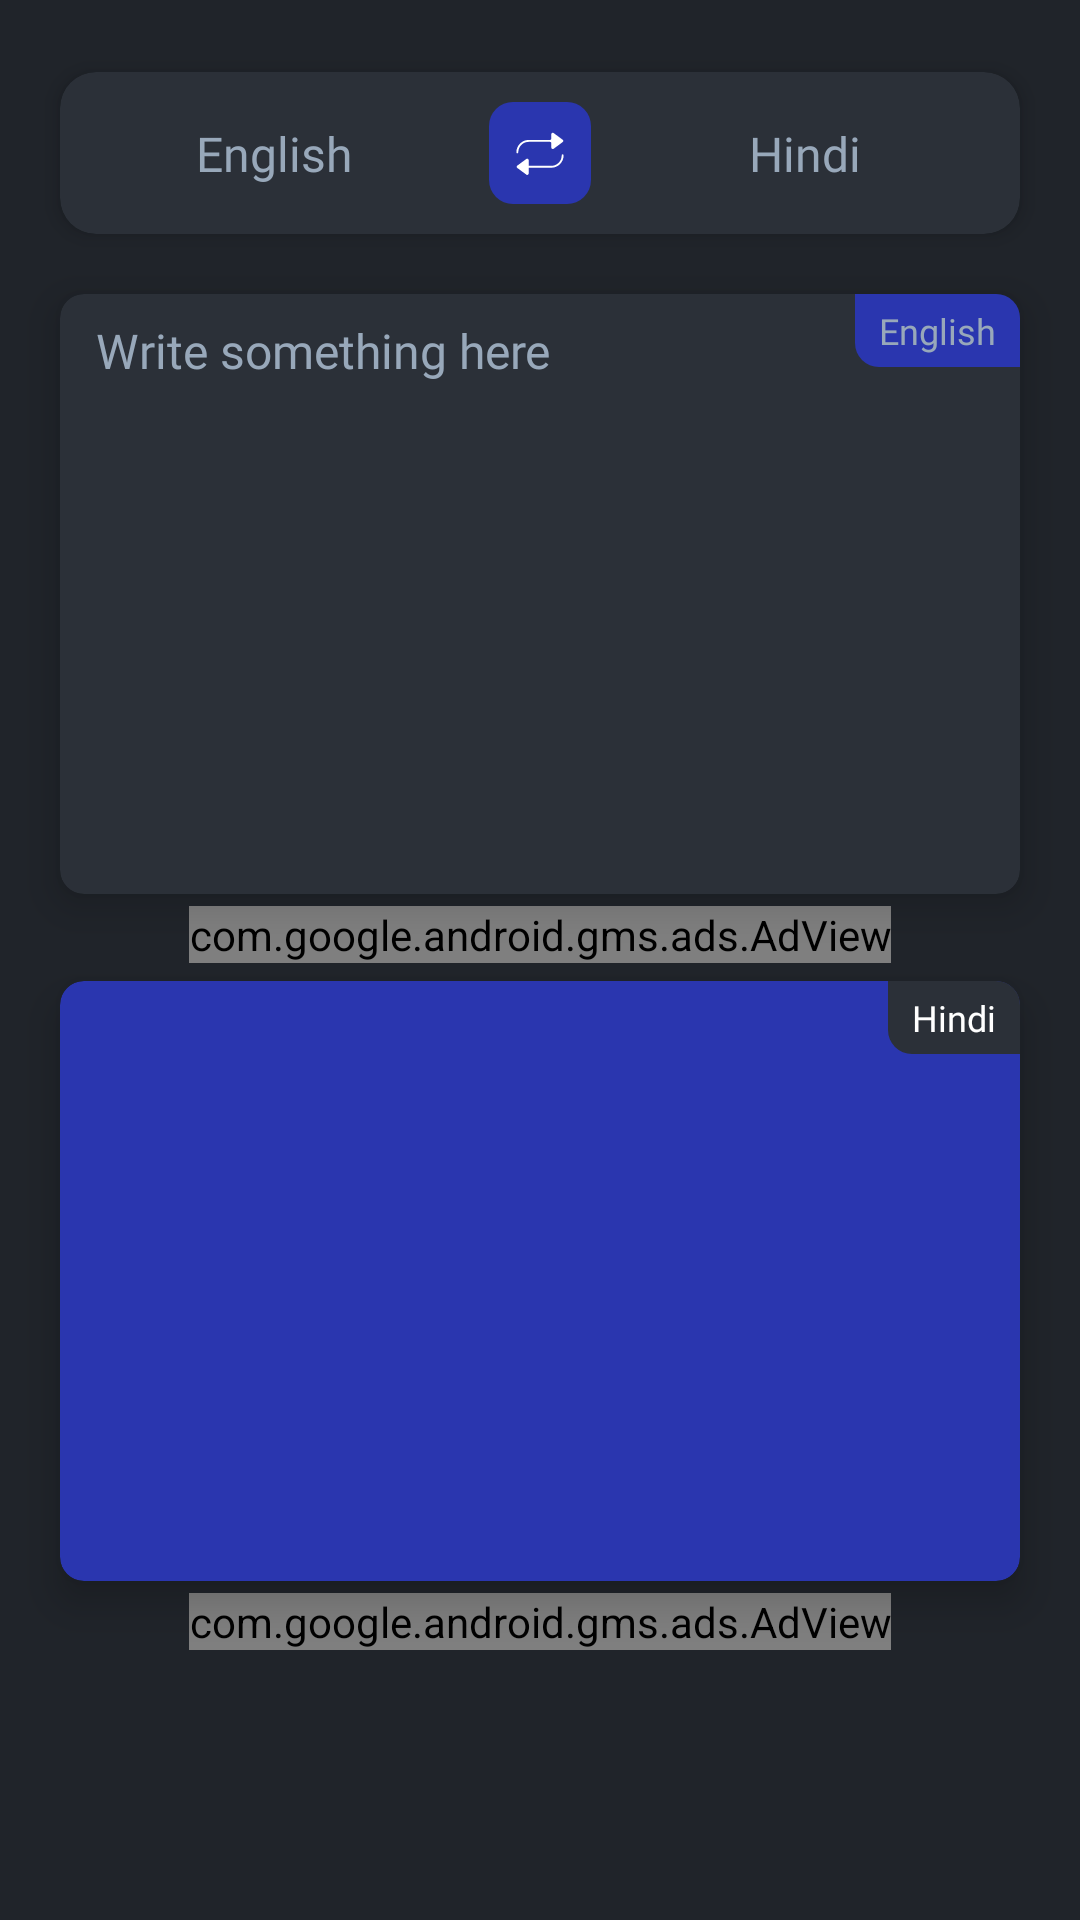

Point at icon controls on the screen. Image size 1080*1920, points as [x,y].
switch language: [540,153]
